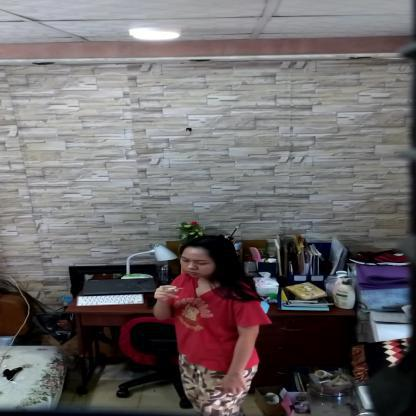cigarette: (164, 287, 184, 290)
person: (156, 233, 262, 416)
